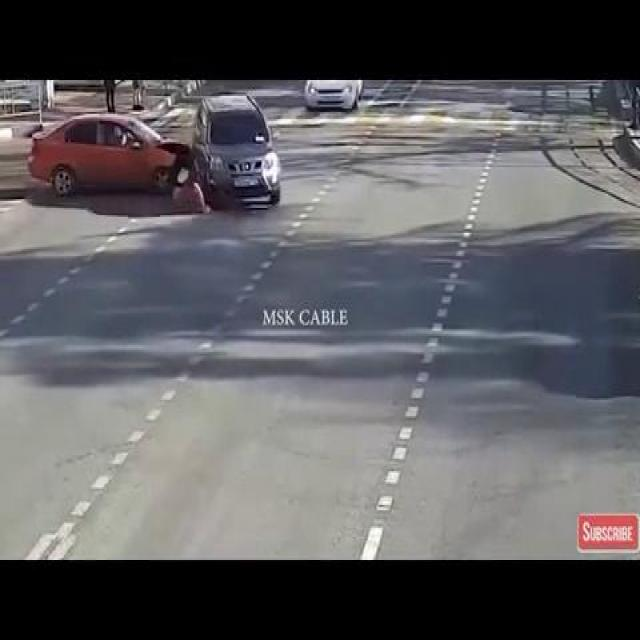accident: (36, 76, 272, 210)
